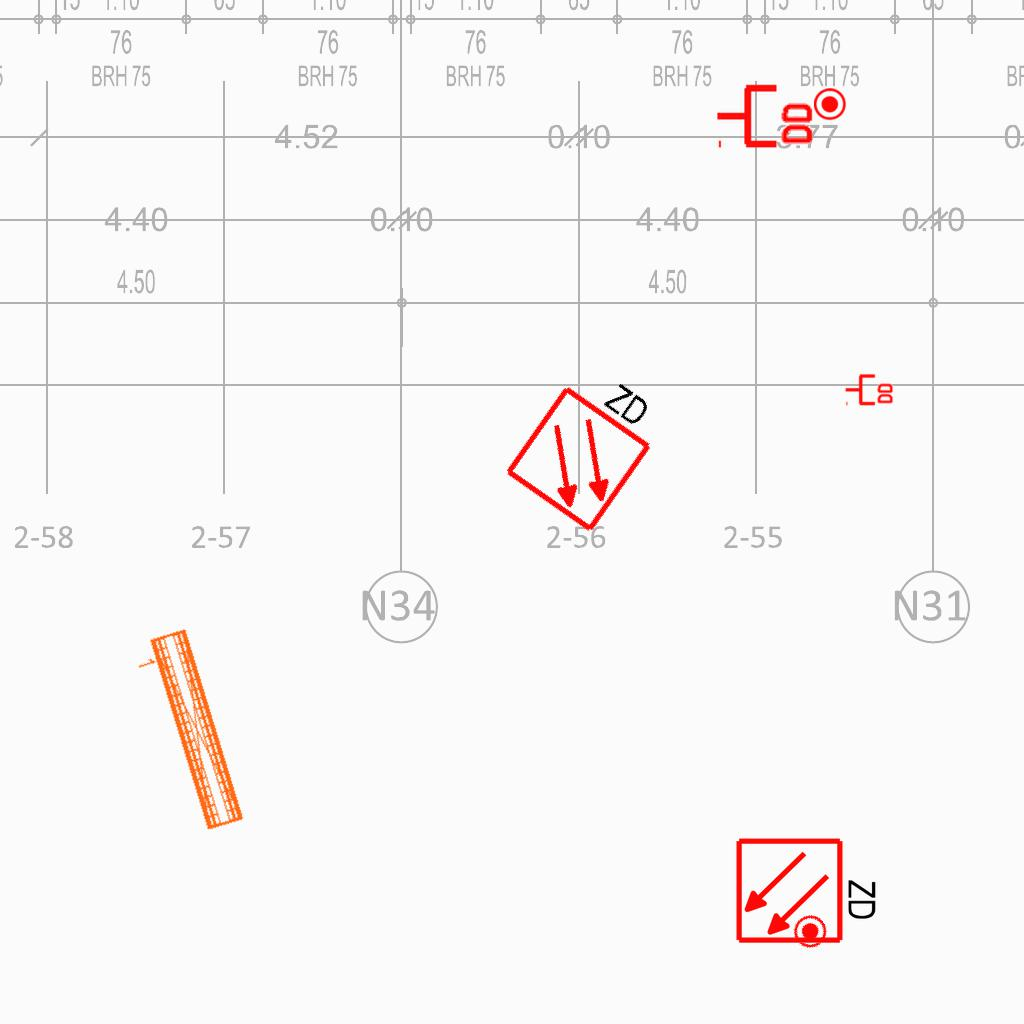Buero_Pendelleuchten_LED: (126, 624, 250, 841)
Datenanschluss_zweifach: (714, 80, 817, 149), (844, 372, 895, 406)
Taster: (786, 908, 833, 955), (814, 88, 847, 121)
ZD_Melder_in_Zwischendecke_mit_Revisionsoeffnung_mind_40_x_40_cm: (498, 348, 678, 537), (734, 832, 883, 946)
